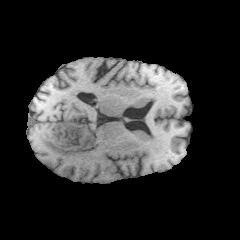glioma: (42, 123, 96, 159)
